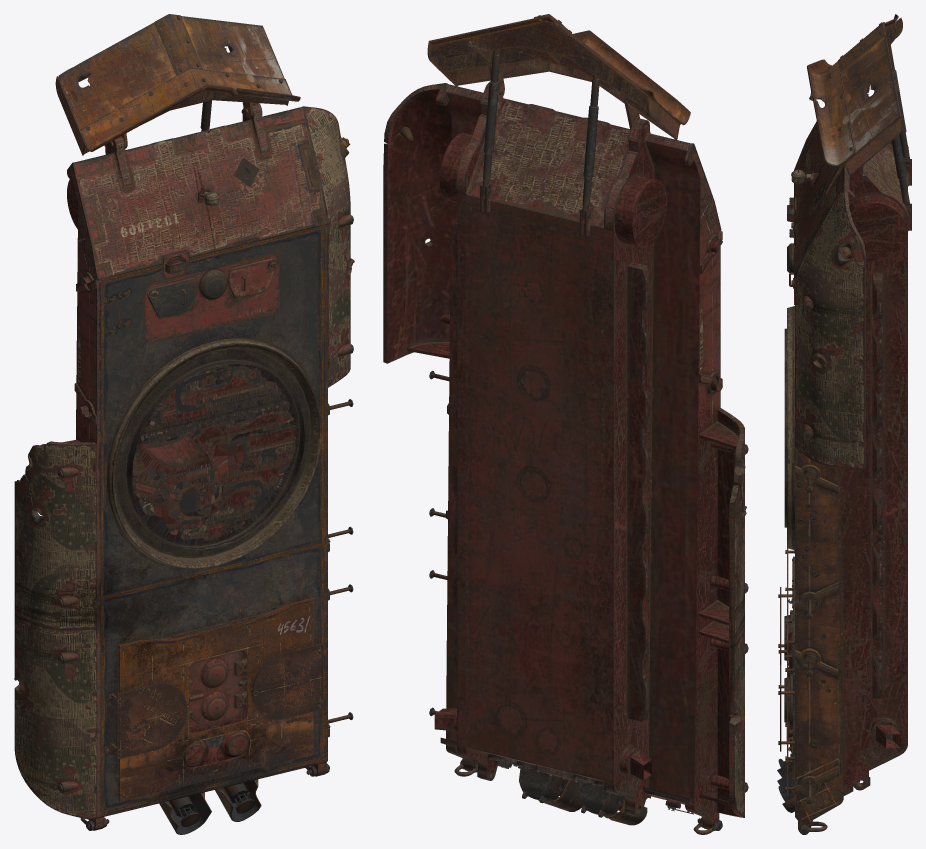
The model's file is Hull_03.glb.
3 renders of one model, left to right at view 1: azimuth 30°, elevation 25°; view 2: azimuth 150°, elevation 25°; view 3: azimuth 270°, elevation 25°, orthographic. The views are drawn at different scales.
Visible parts, largest first — view 1: set_0_group_0, set_0_group_1; view 2: set_0_group_0, set_0_group_1; view 3: set_0_group_0, set_0_group_1, set_0_group_2.
Boxes of the visible parts, bbox=[...] form: set_0_group_0: bbox=[14, 100, 354, 834]; set_0_group_1: bbox=[55, 14, 350, 801]; set_0_group_0: bbox=[383, 49, 748, 834]; set_0_group_1: bbox=[400, 14, 690, 141]; set_0_group_0: bbox=[777, 47, 911, 834]; set_0_group_1: bbox=[781, 14, 902, 794]; set_0_group_2: bbox=[797, 180, 835, 748].
Bounding box in the file's own units: 4.04 × 9.22 × 1.45.
3 materials, 3 textured.
